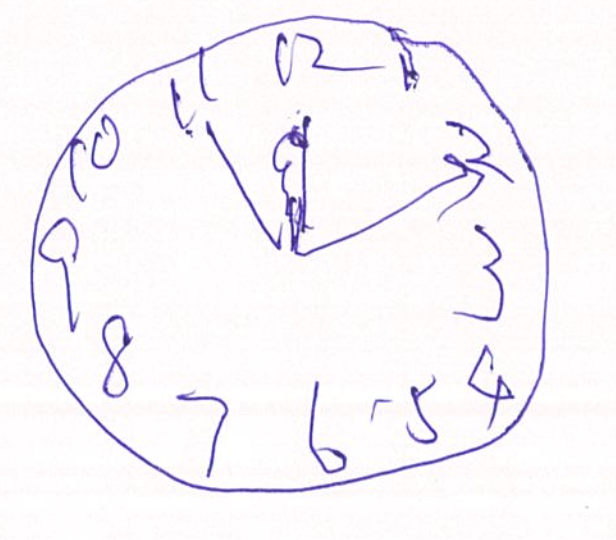1: (397, 51, 417, 95)
10: (64, 112, 124, 203)
11: (165, 43, 218, 128)
12: (273, 31, 384, 93)
2: (440, 116, 520, 185)
3: (454, 221, 508, 325)
4: (463, 342, 514, 433)
5: (403, 375, 444, 448)
6: (302, 379, 351, 476)
7: (170, 387, 231, 481)
8: (98, 311, 133, 401)
9: (33, 212, 85, 336)
contour: (24, 11, 554, 493)
